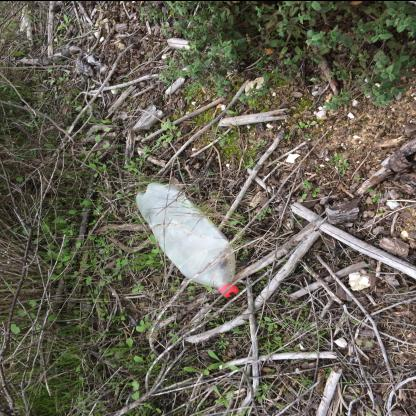plastik: (133, 180, 239, 296)
